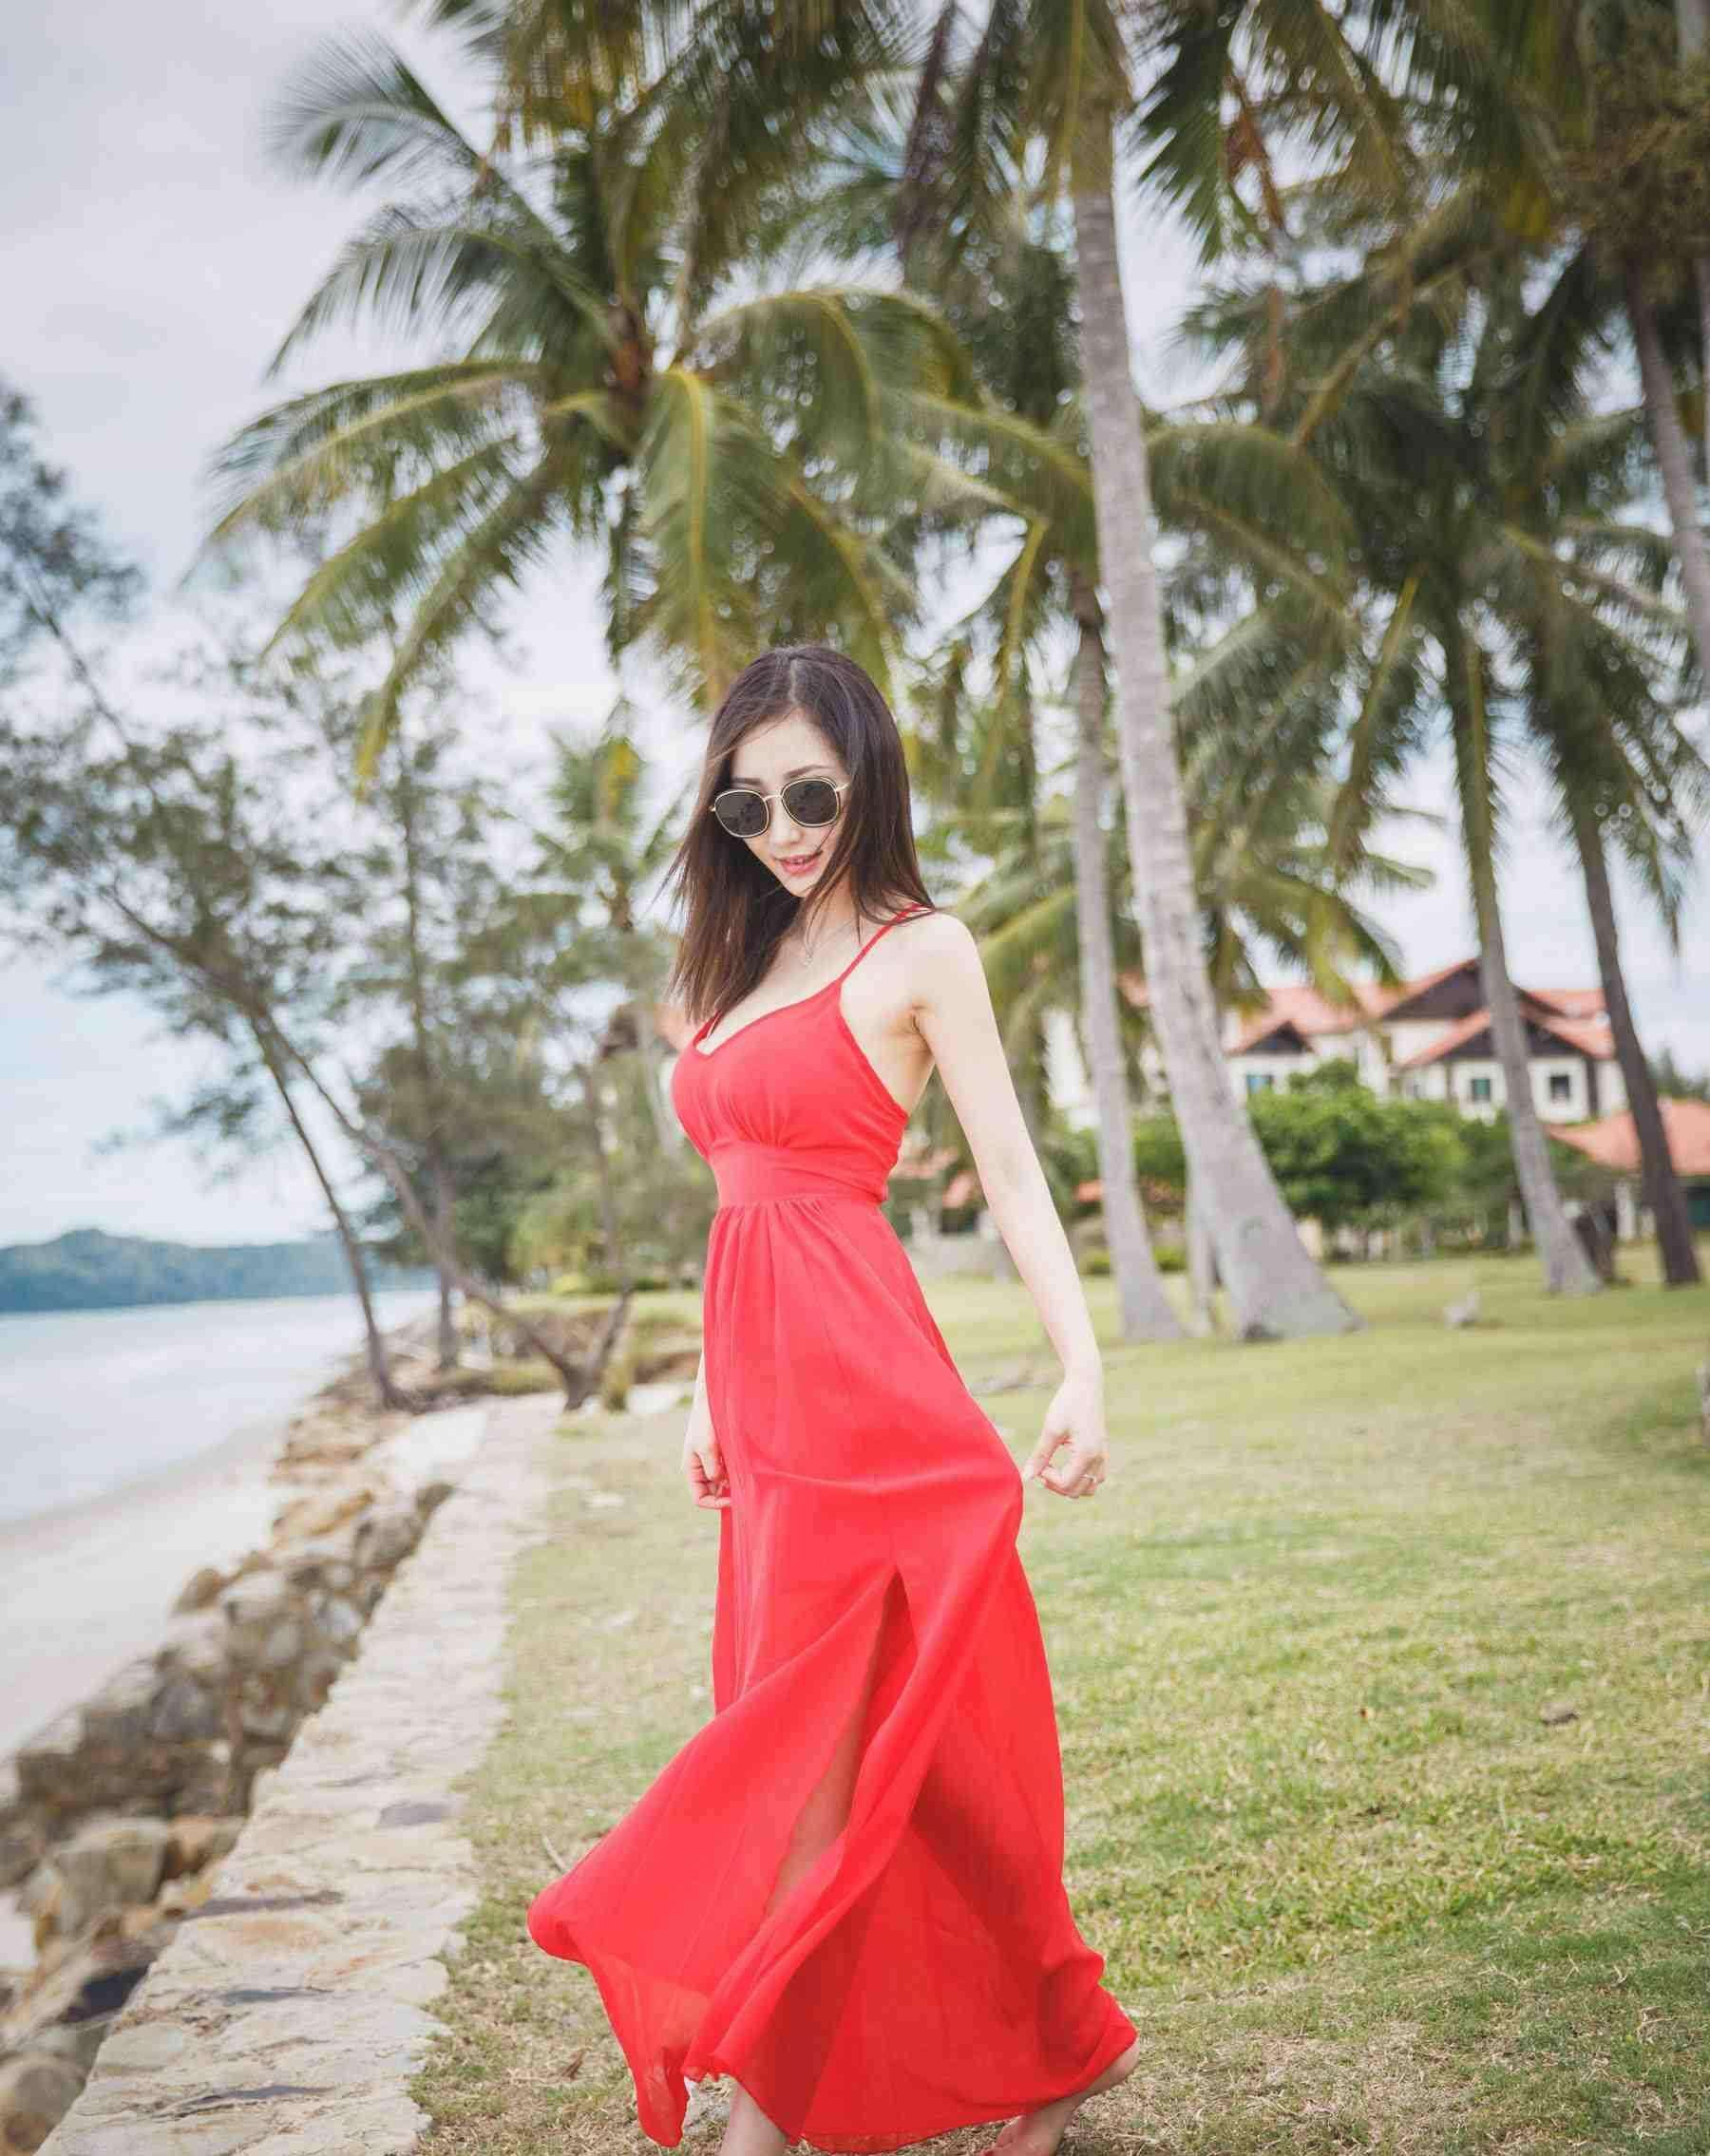person: (587, 618, 1314, 2046)
